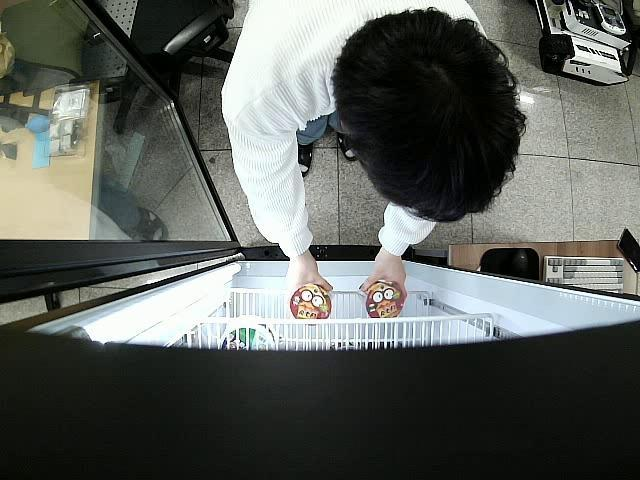06_nuguri_S: (355, 280, 405, 318), (289, 286, 332, 326)
